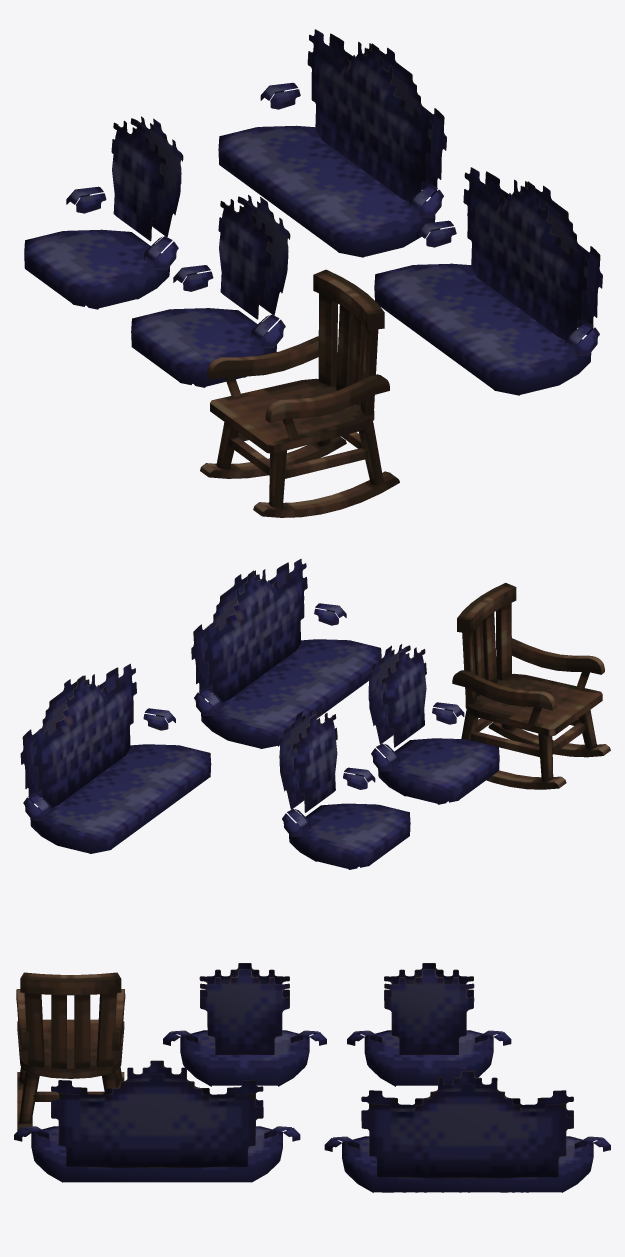
The model's file is EnvObjMD_Chair_Luxury_A_Chair.FBX.
3 renders of one model, top to bottom at view 1: azimuth 30°, elevation 25°; view 2: azimuth 150°, elevation 25°; view 3: azimuth 270°, elevation 25°, orthographic. The views are drawn at different scales.
Parts seen in each view (by area): view 1: EnvObjMD_Chair_Luxury_A_Sofa_Purple, EnvObjMD_Chair_Luxury_A_Sofa, EnvObjMD_Chair_Rocking_A, EnvObjMD_Chair_Luxury_A_Chair, EnvObjMD_Chair_Luxury_A_Chair_Purple; view 2: EnvObjMD_Chair_Luxury_A_Sofa, EnvObjMD_Chair_Luxury_A_Sofa_Purple, EnvObjMD_Chair_Rocking_A, EnvObjMD_Chair_Luxury_A_Chair, EnvObjMD_Chair_Luxury_A_Chair_Purple; view 3: EnvObjMD_Chair_Luxury_A_Sofa_Purple, EnvObjMD_Chair_Luxury_A_Sofa, EnvObjMD_Chair_Rocking_A, EnvObjMD_Chair_Luxury_A_Chair_Purple, EnvObjMD_Chair_Luxury_A_Chair.
Part boxes in pixels (x1,y1,x2,y2): EnvObjMD_Chair_Luxury_A_Sofa_Purple: (374,167,602,395); EnvObjMD_Chair_Luxury_A_Sofa: (218,29,446,257); EnvObjMD_Chair_Rocking_A: (200,269,399,517); EnvObjMD_Chair_Luxury_A_Chair: (24,116,183,309); EnvObjMD_Chair_Luxury_A_Chair_Purple: (131,195,290,387); EnvObjMD_Chair_Luxury_A_Sofa: (20,663,211,853); EnvObjMD_Chair_Luxury_A_Sofa_Purple: (191,559,381,748); EnvObjMD_Chair_Rocking_A: (452,583,610,789); EnvObjMD_Chair_Luxury_A_Chair: (277,709,410,869); EnvObjMD_Chair_Luxury_A_Chair_Purple: (367,644,499,804); EnvObjMD_Chair_Luxury_A_Sofa_Purple: (14,1060,300,1182); EnvObjMD_Chair_Luxury_A_Sofa: (324,1071,610,1192); EnvObjMD_Chair_Rocking_A: (16,972,125,1132); EnvObjMD_Chair_Luxury_A_Chair_Purple: (163,963,326,1086); EnvObjMD_Chair_Luxury_A_Chair: (347,963,511,1086).
Bounding box in the file's own units: 254 × 139 × 390.
Materials: 2 (2 with a texture image).
